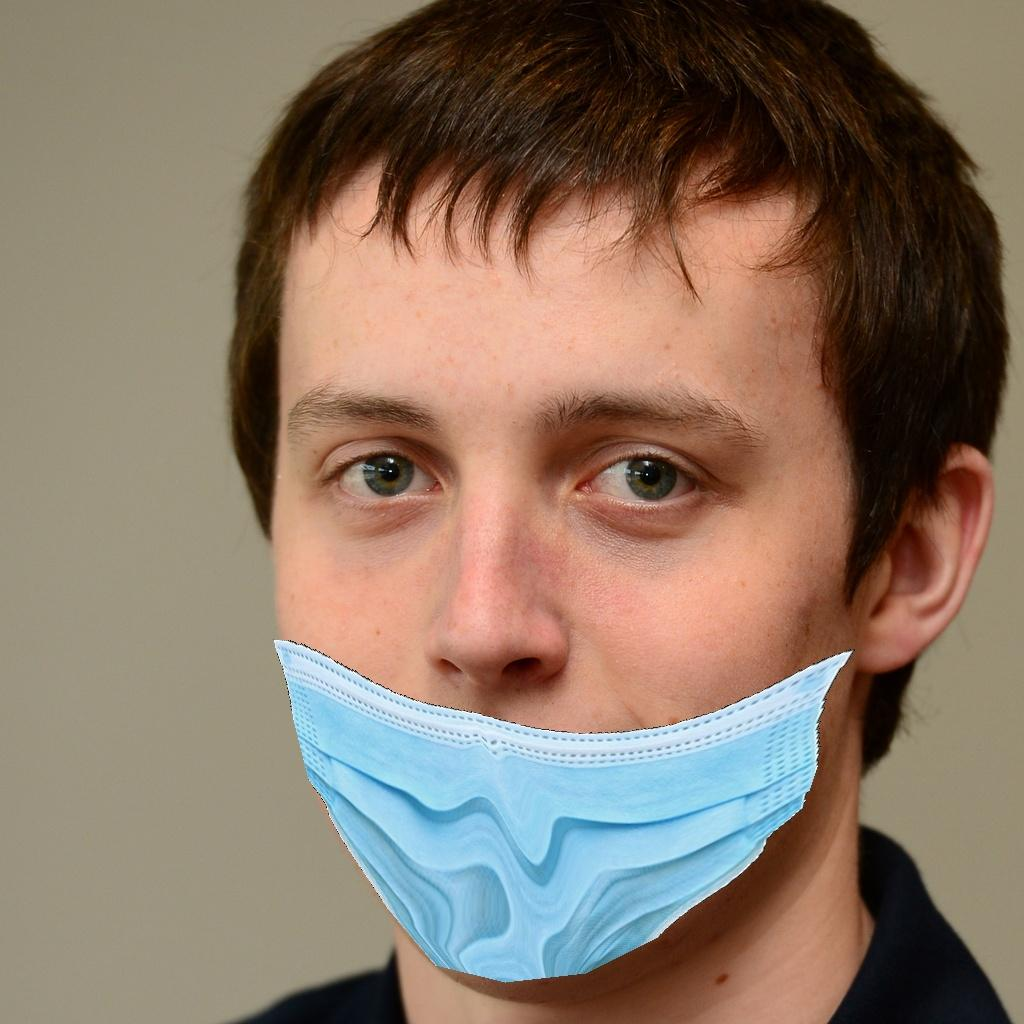Máscara Incorreta: (278, 293, 847, 956)
